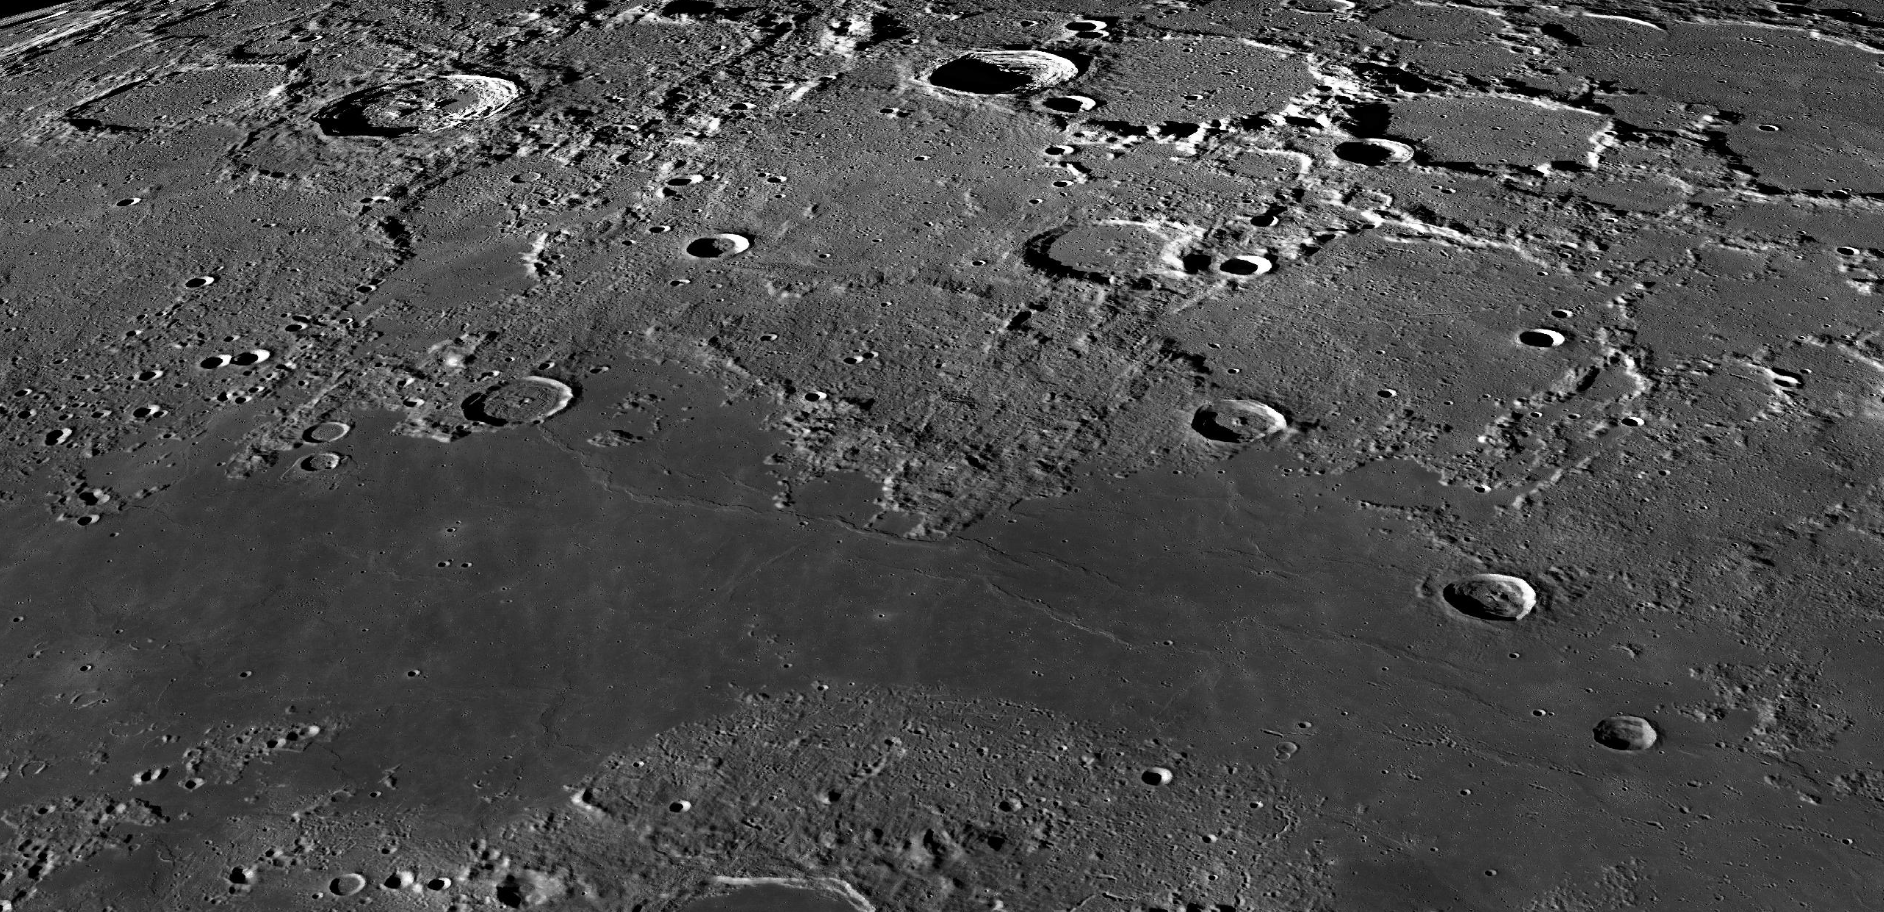crater: (308, 58, 577, 193), (11, 37, 322, 149), (894, 30, 1141, 147), (1391, 552, 1620, 646), (1149, 369, 1331, 470), (451, 352, 597, 457), (288, 410, 375, 447), (318, 850, 372, 904)
